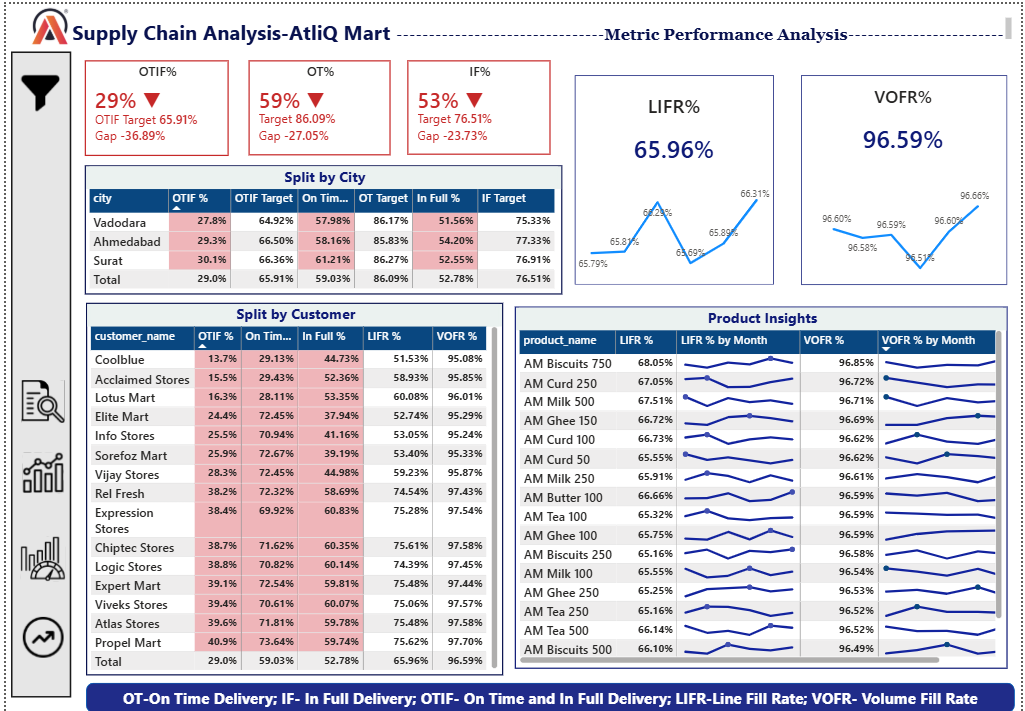

The dashboard page shown, as its layout file describes it:
{"tool":"powerbi","page":{"name":"Metric Performance Analysis","canvas":[1332,929],"ordinal":1},"visuals":[{"type":"textbox","box":[81.3,13.1,1241.6,52.5],"z":0,"group":"g1"},{"type":"shape","box":[6.3,63.1,79,847.3],"z":0,"group":"g3"},{"type":"card","title":"VOFR%","fields":{"Values":["fact_order_lines.VOFR %"]},"box":[1059.3,105.5,235.4,114.6],"z":0},{"type":"card","title":"LIFR%","fields":{"Values":["fact_order_lines.LIFR %"]},"box":[746.3,116.3,260.9,114.1],"z":0,"group":"g2"},{"type":"group","id":"g1","title":"topic","box":[12.3,4.9,1309.9,60.5],"z":1000},{"type":"image","box":[12.3,4.9,90.9,47.6],"z":1000,"group":"g1"},{"type":"lineChart","fields":{"Category":["dim_date.date.Variation.Date Hierarchy.Month"],"Y":["fact_order_lines.LIFR %"]},"box":[746.3,230.4,260.9,127.5],"z":1000,"group":"g2"},{"type":"actionButton","box":[17.1,569.5,61.5,91.4],"z":1000,"group":"g3"},{"type":"cardVisual","title":"OTIF%","fields":{"Data":["dim_targets_orders.OTIF Display"]},"box":[103.7,74.1,188.9,125.9],"z":2000},{"type":"shape","box":[745.9,93.2,261.2,274.8],"z":2000,"group":"g2"},{"type":"actionButton","box":[14.1,685.5,67.5,84.4],"z":2000,"group":"g3"},{"type":"lineChart","fields":{"Category":["dim_date.date.Variation.Date Hierarchy.Month"],"Y":["fact_order_lines.VOFR %"]},"box":[1065.4,230.8,229.3,125.3],"z":3000},{"type":"actionButton","box":[17.1,792.8,61.5,77.4],"z":3000,"group":"g3"},{"type":"cardVisual","title":"OT%","fields":{"Data":["Measure Table.OT Display"]},"box":[318.5,74.1,186.4,124.7],"z":4000},{"type":"actionButton","box":[15.6,486.9,64.5,72.1],"z":4000,"group":"g3"},{"type":"shape","box":[1042.5,93.2,270.6,275.1],"z":5000},{"type":"cardVisual","title":"IF%","fields":{"Data":["Measure Table.IF Display"]},"box":[525.8,73.4,188,123.8],"z":6000},{"type":"pivotTable","title":"Split by City","fields":{"Rows":["dim_customers.city"],"Values":["fact_orders_aggregate.OTIF %","dim_targets_orders.OTIF Target","fact_orders_aggregate.On Time %","dim_targets_orders.OT Target","fact_orders_aggregate.In Full %","dim_targets_orders.IF Target"]},"box":[103.9,210.9,626.7,169.7],"z":7000},{"type":"pivotTable","title":"Product Insights","fields":{"Values":["fact_order_lines.LIFR %","SparklineData(fact_order_lines.LIFR %_[dim_date.mmm_yy.Variation.Date Hierarchy.Month])","fact_order_lines.VOFR %","SparklineData(fact_order_lines.VOFR %_[dim_date.mmm_yy.Variation.Date Hierarchy.Month])"],"Rows":["dim_products.product_name"]},"box":[668,397.4,646.6,475.4],"z":8000},{"type":"pivotTable","title":"Split by Customer","fields":{"Values":["fact_orders_aggregate.OTIF %","fact_orders_aggregate.On Time %","fact_orders_aggregate.In Full %","fact_order_lines.LIFR %","fact_order_lines.VOFR %"],"Rows":["dim_customers.customer_name"]},"box":[104.1,391.3,547.5,489.1],"z":9000},{"type":"group","id":"g2","title":"LIFR CARD","box":[745.9,93.2,261.4,273.6],"z":10000},{"type":"group","id":"g3","title":"side panel","box":[6.3,63.1,78.9,847.3],"z":11000},{"type":"actionButton","box":[12.2,79.5,67.3,73.4],"z":12000},{"type":"shape","box":[104.1,889.9,1218.1,39.4],"z":14000}]}

Visuals, with their boxes in screenshot pixels (x1, y1, x2, y2), scaled from the page's 1332x929 canvas onto the 1025x711 screenshot:
textbox: Rect(63, 10, 1018, 50)
shape: Rect(5, 48, 66, 697)
"VOFR%" card: Rect(815, 81, 996, 168)
"LIFR%" card: Rect(574, 89, 775, 176)
"topic" group: Rect(9, 4, 1017, 50)
image: Rect(9, 4, 79, 40)
lineChart - dim_date.date.Variation.Date Hierarchy.Month x fact_order_lines.LIFR %: Rect(574, 176, 775, 274)
actionButton: Rect(13, 436, 60, 506)
"OTIF%" cardVisual: Rect(80, 57, 225, 153)
shape: Rect(574, 71, 775, 282)
actionButton: Rect(11, 525, 63, 589)
lineChart - dim_date.date.Variation.Date Hierarchy.Month x fact_order_lines.VOFR %: Rect(820, 177, 996, 273)
actionButton: Rect(13, 607, 60, 666)
"OT%" cardVisual: Rect(245, 57, 389, 152)
actionButton: Rect(12, 373, 62, 428)
shape: Rect(802, 71, 1010, 282)
"IF%" cardVisual: Rect(405, 56, 549, 151)
"Split by City" pivotTable: Rect(80, 161, 562, 291)
"Product Insights" pivotTable: Rect(514, 304, 1012, 668)
"Split by Customer" pivotTable: Rect(80, 299, 501, 674)
"LIFR CARD" group: Rect(574, 71, 775, 281)
"side panel" group: Rect(5, 48, 66, 697)
actionButton: Rect(9, 61, 61, 117)
shape: Rect(80, 681, 1017, 710)
